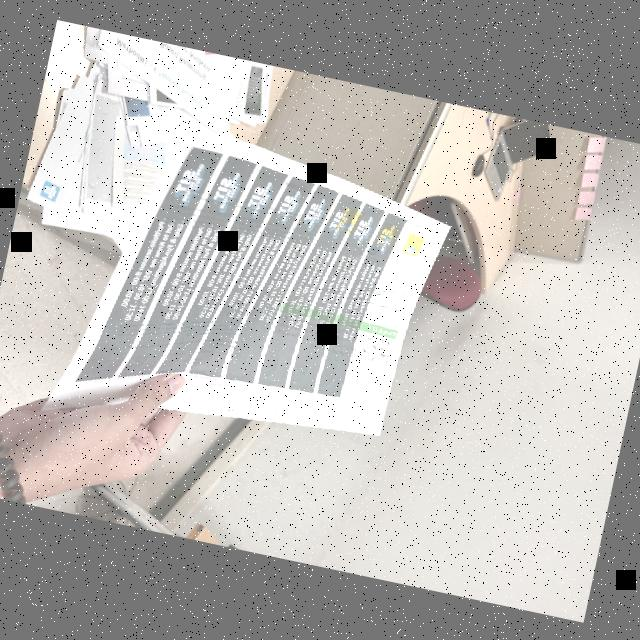reuseable_paper: (26, 99, 471, 494), (10, 19, 281, 290)
